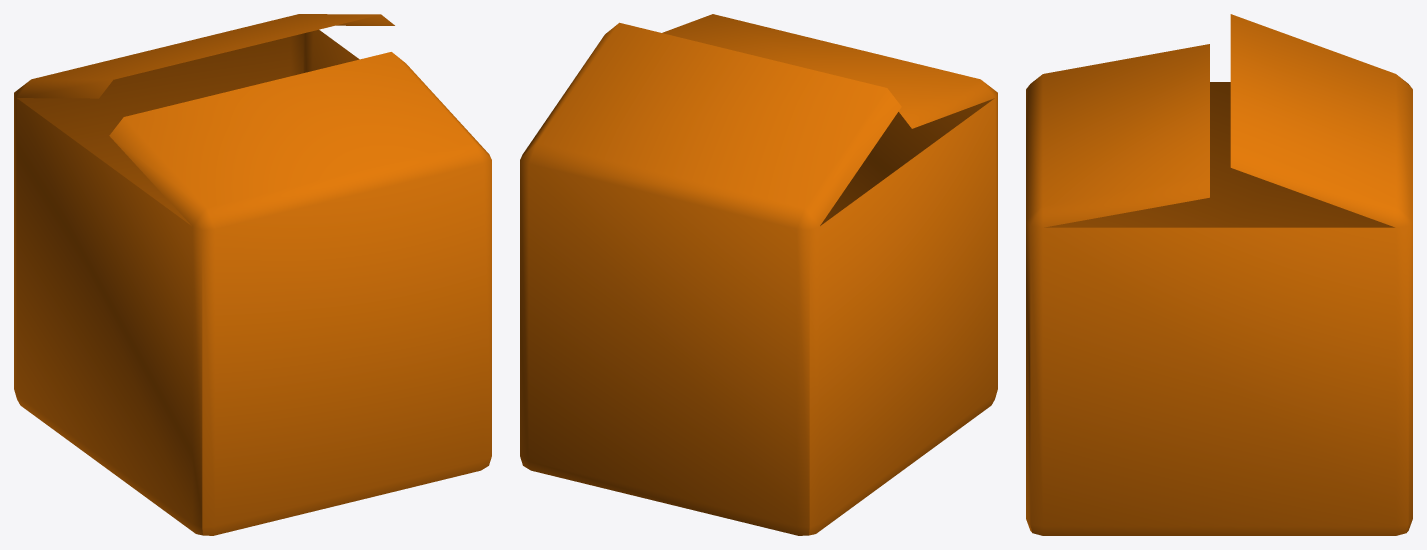
File: SM_Cardboard002.fbx
3 renders of one model, left to right at view 1: azimuth 30°, elevation 25°; view 2: azimuth 150°, elevation 25°; view 3: azimuth 270°, elevation 25°, orthographic.
Parts seen in each view (by area): view 1: SM_Cardboard002; view 2: SM_Cardboard002; view 3: SM_Cardboard002.
Boxes of the visible parts, bbox=[...] form: SM_Cardboard002: bbox=[14, 14, 491, 535]; SM_Cardboard002: bbox=[520, 14, 997, 535]; SM_Cardboard002: bbox=[1026, 14, 1412, 535].
Bounding box in the file's own units: 120 × 149 × 135.
